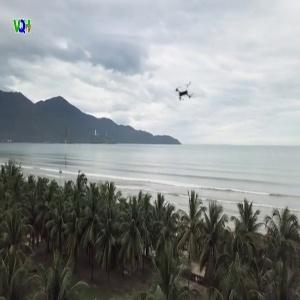drone: (165, 74, 206, 115)
